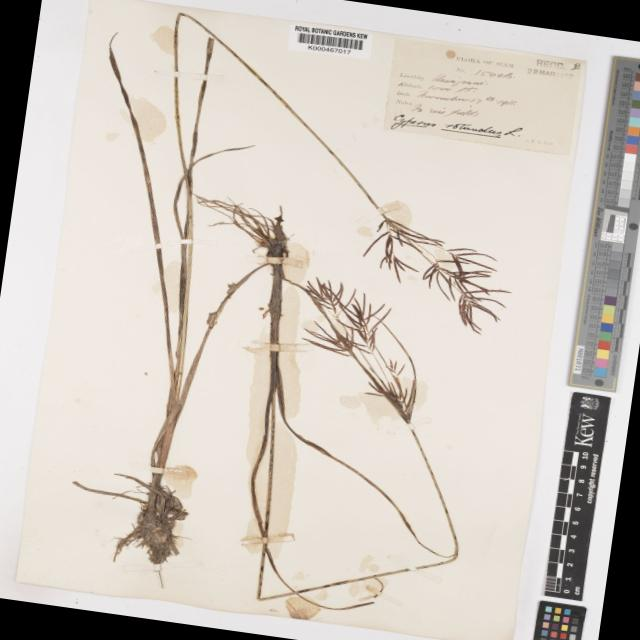cyperus: (264, 268, 448, 426), (359, 204, 529, 340)
